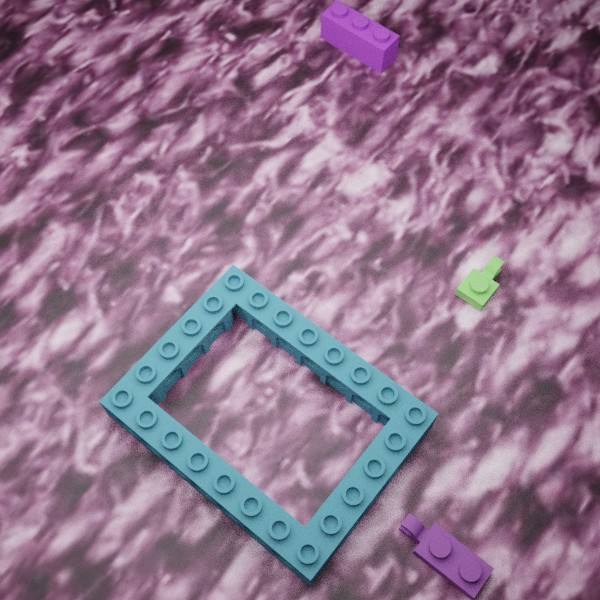lego: (99, 264, 438, 586), (398, 513, 494, 600), (320, 0, 399, 73), (454, 255, 504, 311)
